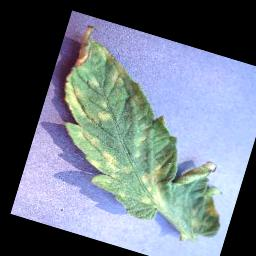Leaf_Mold: (131, 158, 177, 213), (85, 145, 137, 184), (54, 80, 95, 126), (76, 128, 104, 149), (96, 108, 115, 124)
